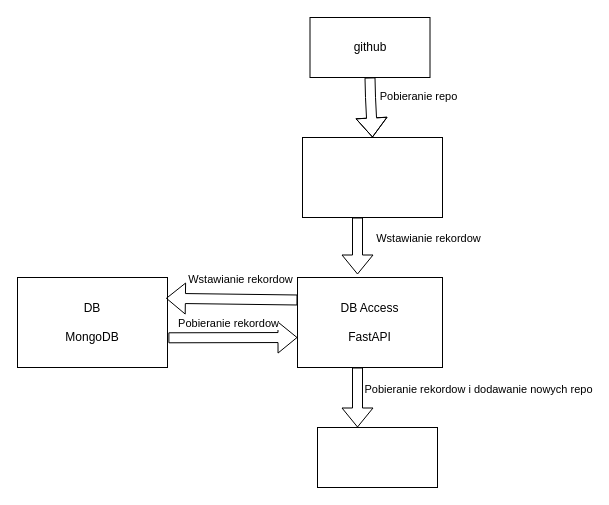
This 609x505 diagram has some shape labels left out. The centre of each missing label's shape, as x and y in pixels:
"CLI Python >= 3.12 Argparser + requests" goes at (x=377, y=457).
"Scraper Python" goes at (x=372, y=177).
